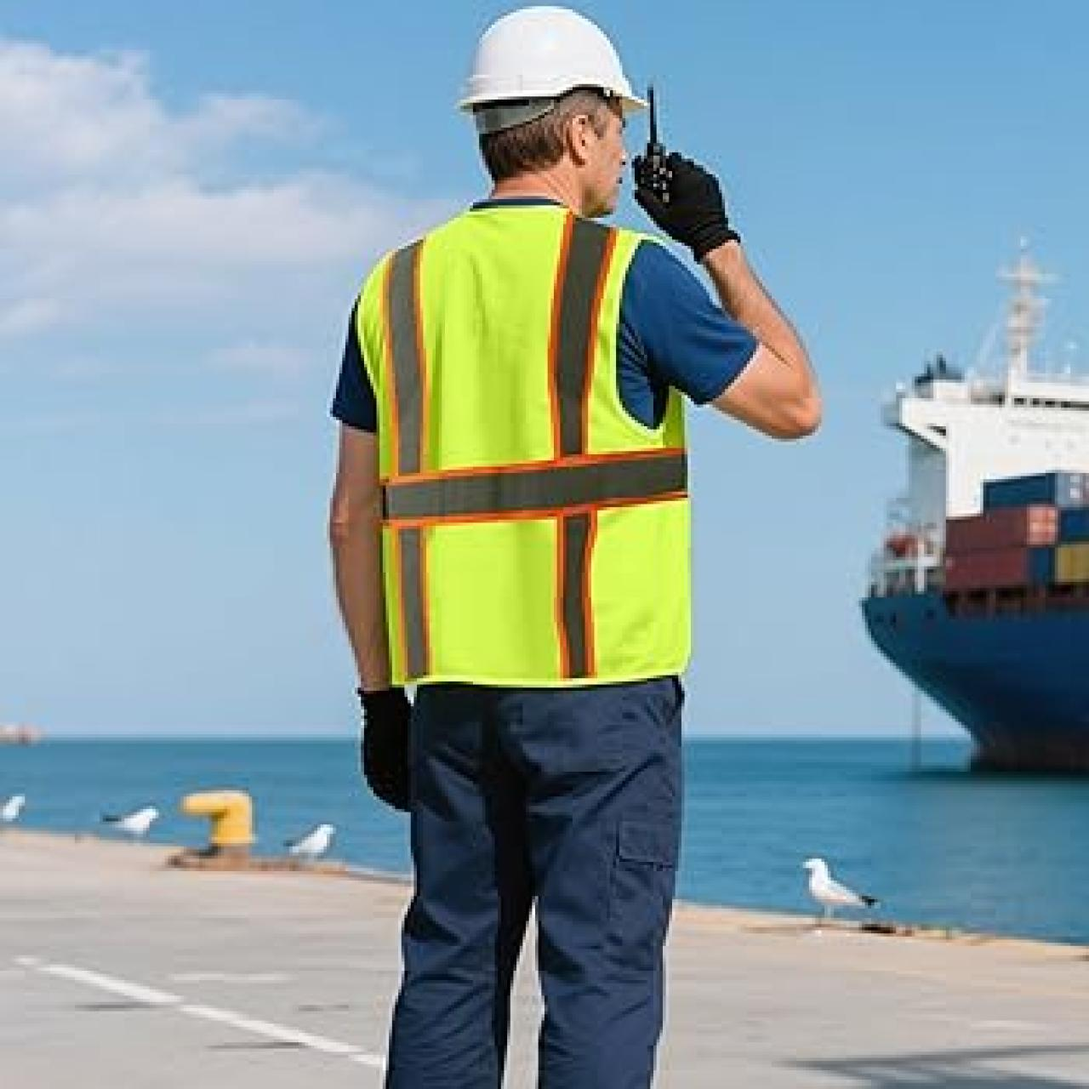Person: (305, 0, 855, 1089)
Safety_Vest: (348, 193, 728, 707)
